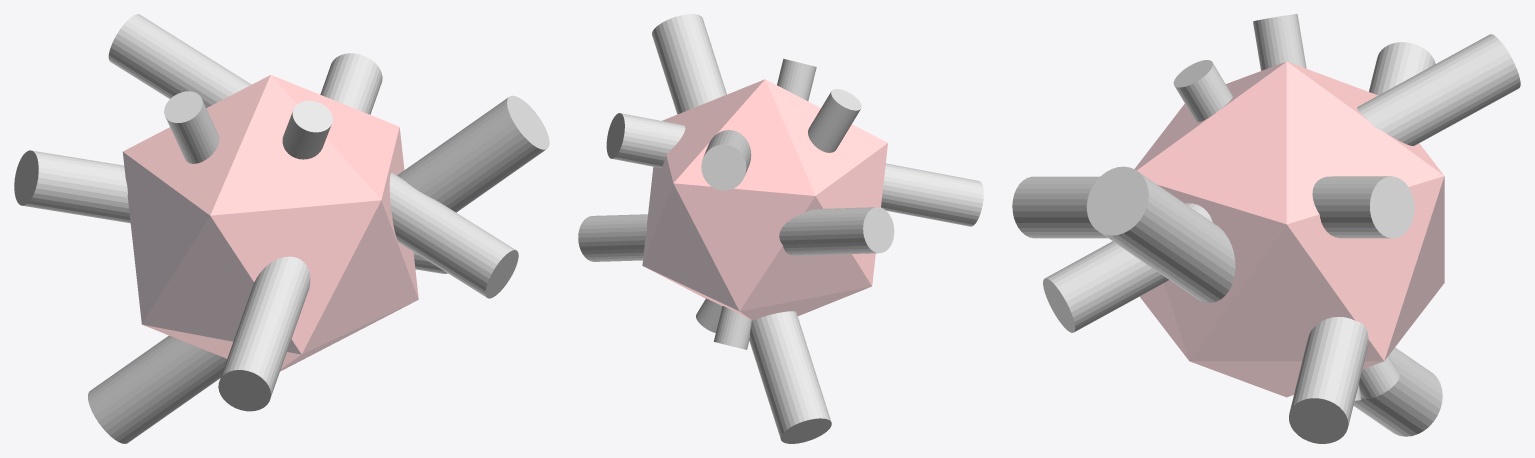
The model's file is rocks.fbx.
3 renders of one model, left to right at view 1: azimuth 30°, elevation 25°; view 2: azimuth 150°, elevation 25°; view 3: azimuth 270°, elevation 25°, orthographic. The views are drawn at different scales.
Parts seen in each view (by area): view 1: Icosphere, Cylinder.001, Cylinder.005, Cylinder.003, Cylinder.002, Cylinder.004, Cylinder; view 2: Icosphere, Cylinder.001, Cylinder.002, Cylinder.003, Cylinder.004, Cylinder.005, Cylinder; view 3: Icosphere, Cylinder.001, Cylinder.005, Cylinder.003, Cylinder.002, Cylinder, Cylinder.004.
Boxes of the visible parts, x1,y1,x2,y2 form: Icosphere: (122,75,418,371); Cylinder.001: (88,95,549,443); Cylinder.005: (108,14,518,298); Cylinder.003: (218,53,382,411); Cylinder.002: (14,150,447,273); Cylinder.004: (164,91,219,163); Cylinder: (282,100,332,159); Icosphere: (642,79,887,320); Cylinder.001: (652,14,831,443); Cylinder.002: (578,207,894,261); Cylinder.003: (606,113,983,226); Cylinder.004: (696,89,861,332); Cylinder.005: (701,130,751,190); Cylinder: (713,58,816,349); Icosphere: (1134,61,1444,397); Cylinder.001: (1086,166,1442,436); Cylinder.005: (1043,34,1520,332); Cylinder.003: (1012,176,1414,238); Cylinder.002: (1289,42,1435,443); Cylinder: (1173,60,1399,398); Cylinder.004: (1253,14,1361,401).
Size of the model in its own units: 364 by 330 by 356.
